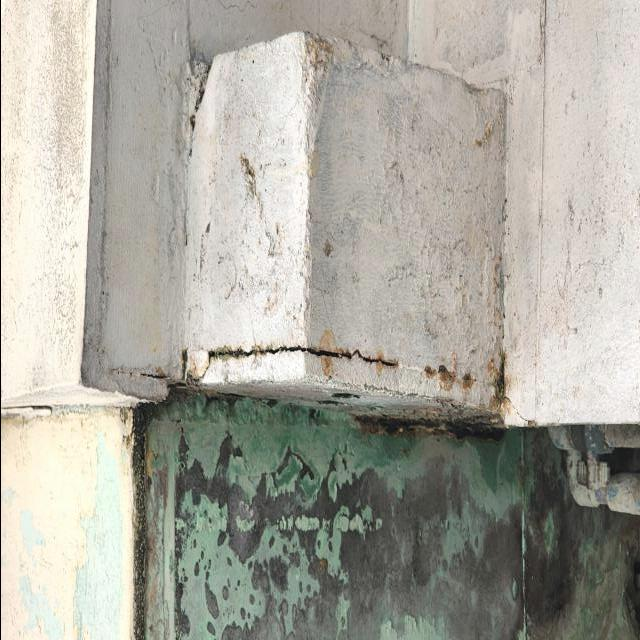SurfaceCrack: (175, 339, 408, 378)
